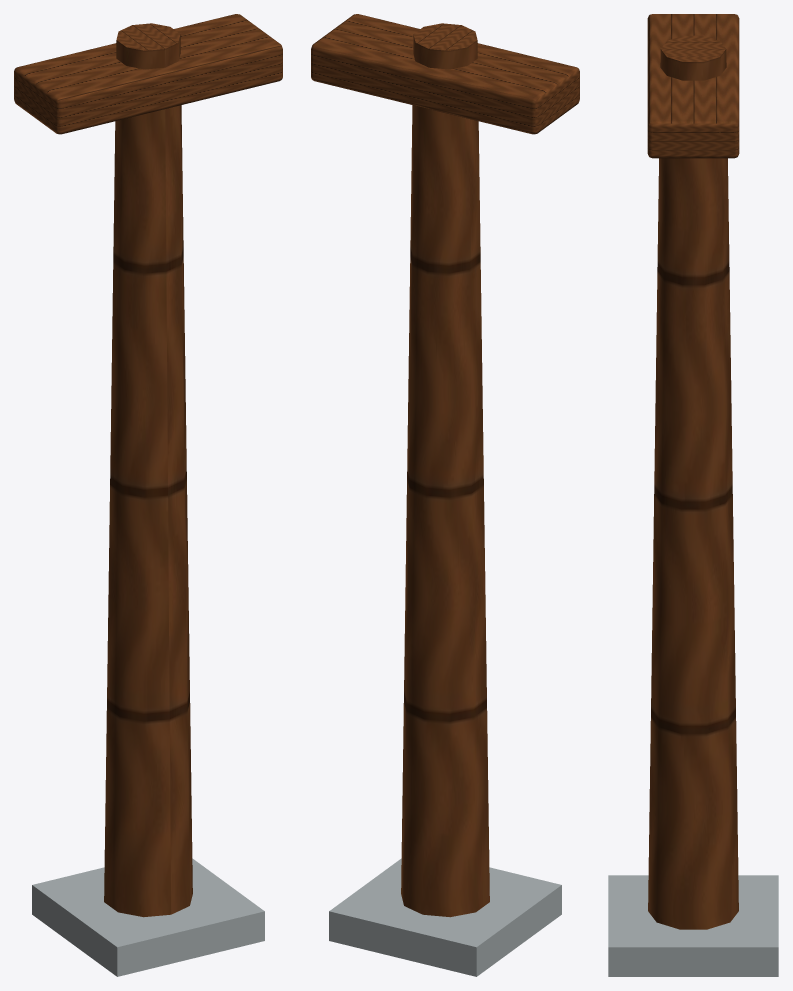
File: modular-survival-base-builder-t-junction-post-39a09300__24218.glb
The picture shows the model from 3 angles, left to right: view 1: azimuth 30°, elevation 25°; view 2: azimuth 150°, elevation 25°; view 3: azimuth 270°, elevation 25°; orthographic projection.
Visible parts, largest first — view 1: t-junction-post; view 2: t-junction-post; view 3: t-junction-post.
Part boxes in pixels (bbox=[...]): t-junction-post: bbox=[14, 14, 282, 976]; t-junction-post: bbox=[311, 14, 579, 976]; t-junction-post: bbox=[608, 14, 778, 976].
Size of the model in its own units: 0.6399 by 2.4 by 0.416.
2 materials, 1 textured.
